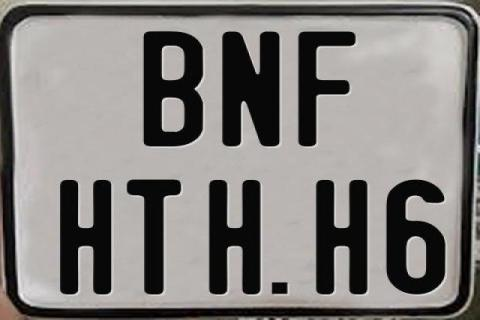0: (386, 178, 448, 298)
B: (140, 29, 200, 145)
F: (298, 31, 359, 146)
H: (314, 178, 369, 296), (60, 179, 111, 296), (207, 178, 258, 294)
N: (220, 31, 279, 146)
T: (124, 177, 183, 297)
